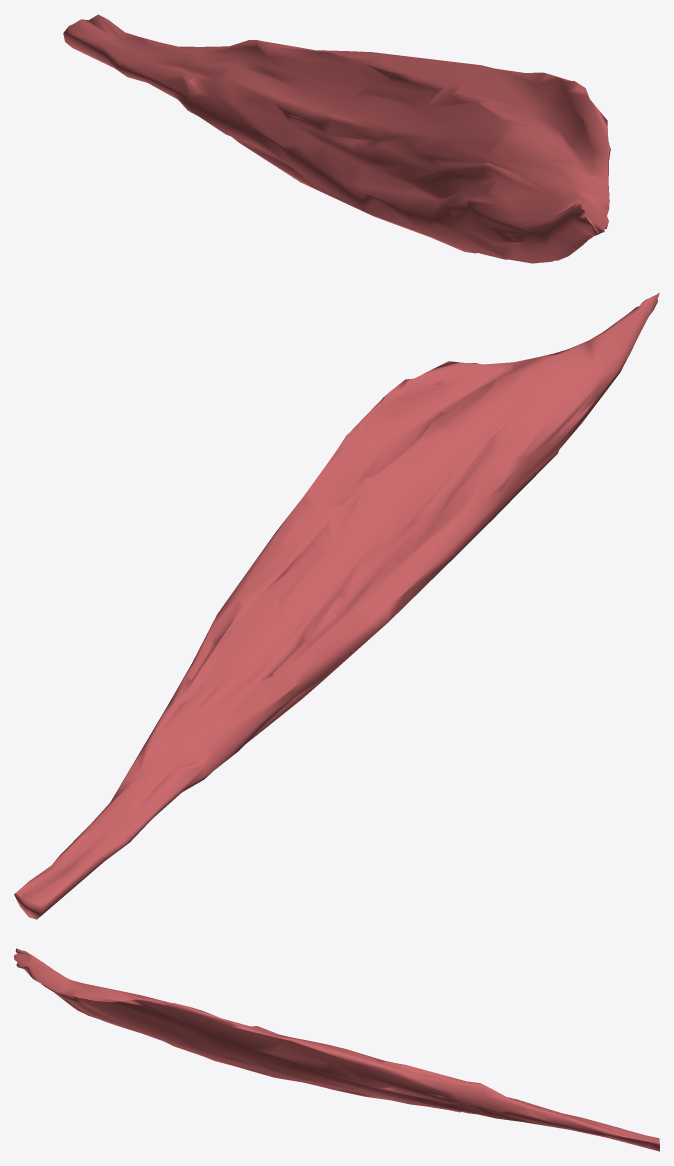
The picture shows the model from 3 angles, top to bottom: view 1: azimuth 30°, elevation 25°; view 2: azimuth 150°, elevation 25°; view 3: azimuth 270°, elevation 25°; orthographic projection. The views are drawn at different scales.
Visible parts, largest first — view 1: 左侧指浅屈肌桡头; view 2: 左侧指浅屈肌桡头; view 3: 左侧指浅屈肌桡头.
Boxes of the visible parts, box(x1,y1,x2,y2) form: 左侧指浅屈肌桡头: box(63, 14, 610, 263); 左侧指浅屈肌桡头: box(14, 292, 659, 919); 左侧指浅屈肌桡头: box(14, 948, 659, 1151).
Bounding box in the file's own units: 0.0428 × 0.0791 × 0.2725.
